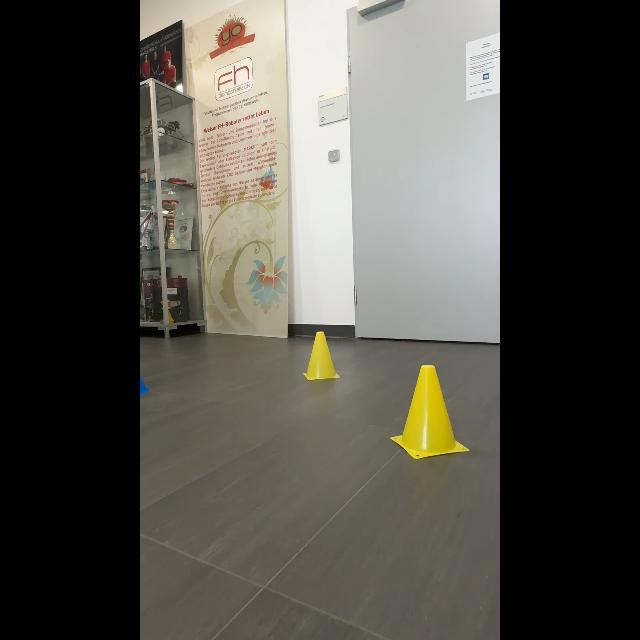yellow_cone: (390, 362, 470, 461), (297, 322, 343, 390)
